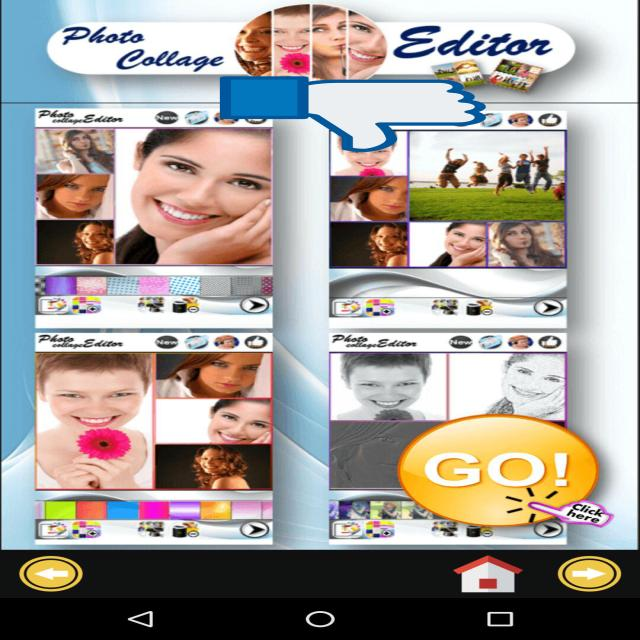obstruction: (220, 74, 486, 154)
